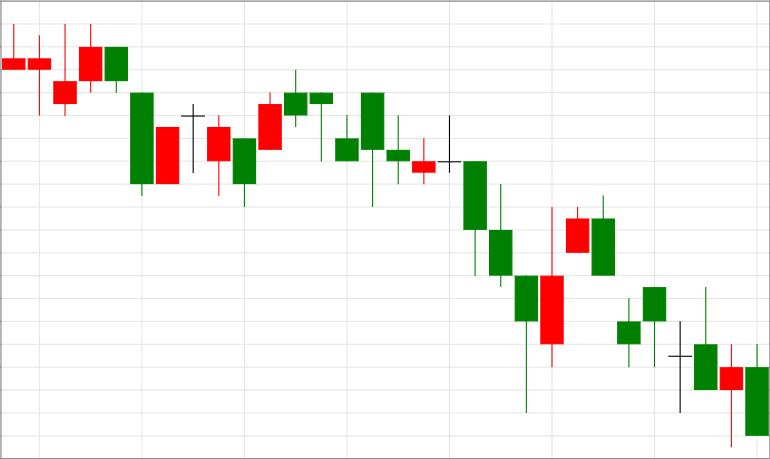hammer_rise: (412, 114, 538, 412)
